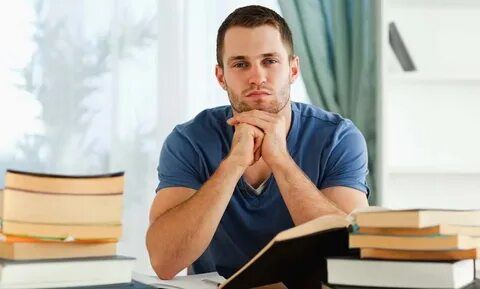awake: (145, 4, 370, 282)
